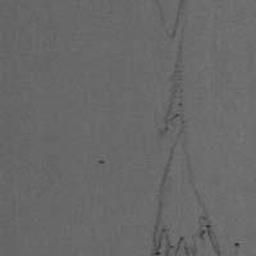Water spot: (151, 0, 220, 256)
